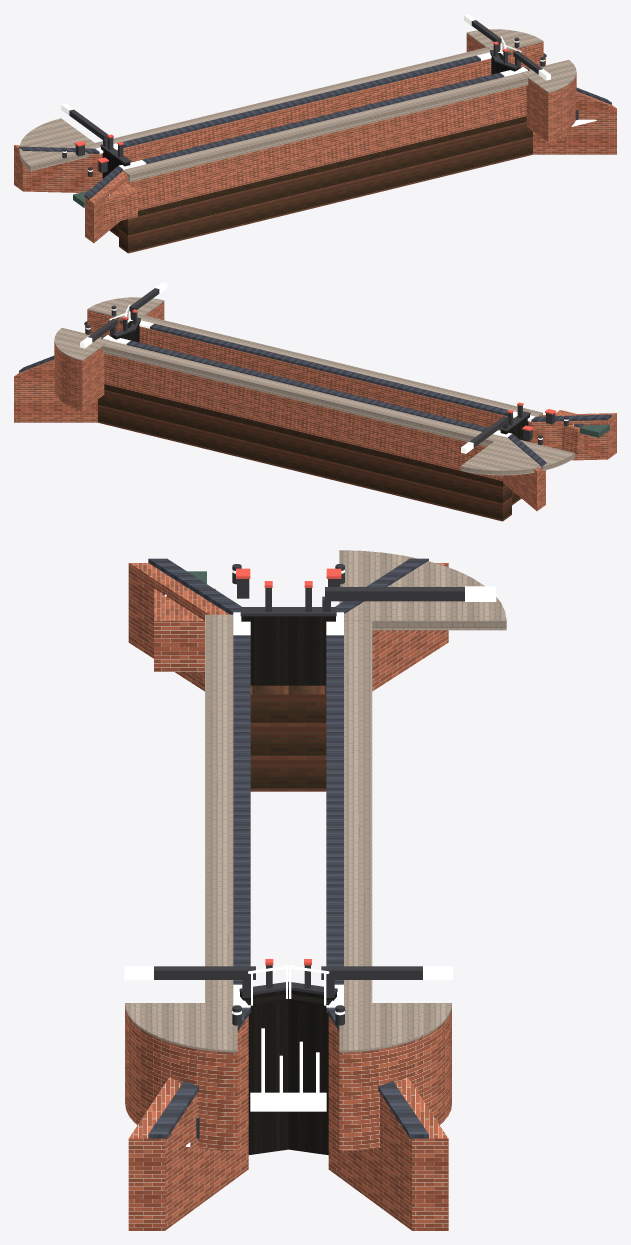
Rendered from lock-42.glb.
3 renders of one model, top to bottom at view 1: azimuth 30°, elevation 25°; view 2: azimuth 150°, elevation 25°; view 3: azimuth 270°, elevation 25°, orthographic. The views are drawn at different scales.
Visible parts, largest first — view 1: Chamber, ChamberWet, Edge, Coping.001, TopGateCap, Coping, TopGate; view 2: Chamber, ChamberWet, Edge, Coping.001, TopGateCap, Coping, TopGate; view 3: Chamber, Edge, Coping.001, TopGate, TopGateCap, ChamberWet, Coping, Leak.
Part boxes in pixels (x1,y1,x2,y2): Chamber: (14, 34, 616, 242); ChamberWet: (109, 116, 532, 253); Edge: (19, 29, 576, 181); Coping.001: (19, 51, 611, 199); TopGateCap: (62, 20, 578, 176); Coping: (61, 14, 550, 171); TopGate: (101, 52, 521, 178); Chamber: (14, 302, 616, 510); ChamberWet: (98, 384, 521, 521); Edge: (54, 297, 574, 475); Coping.001: (19, 319, 611, 467); TopGateCap: (86, 288, 568, 447); Coping: (80, 282, 568, 453); TopGate: (109, 320, 529, 441); Chamber: (125, 563, 451, 1230); Edge: (125, 550, 506, 1052); Coping.001: (148, 558, 428, 1138); TopGate: (240, 616, 336, 1155); TopGateCap: (154, 564, 464, 1138); ChamberWet: (250, 685, 326, 791); Coping: (124, 569, 496, 1015); Leak: (165, 594, 326, 1146).
Size of the model in its own units: 33.92 by 5.99 by 10.52.
11 materials, 8 textured.
